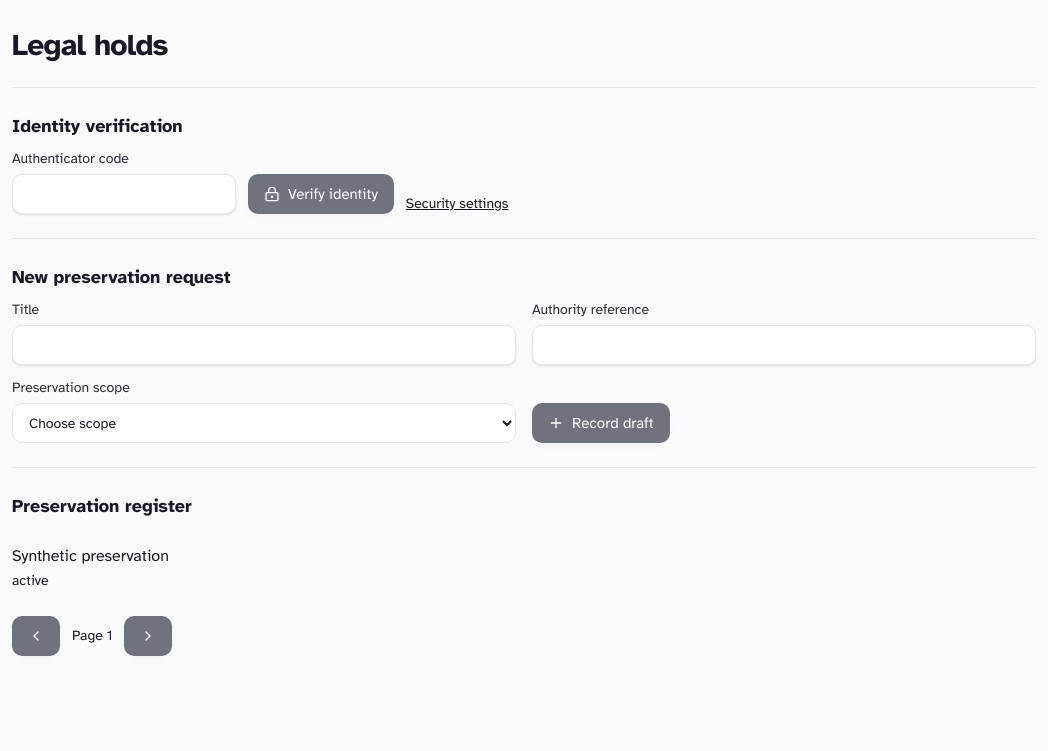
Test case: Legal hold commands › keeps whole-workspace release unavailable and displays the preserved authority
This screenshot has width=1048, height=751.
What coordinates should you click on to do the following:
click the button with aria-label "Synthetic preservation: active"
I would click on:
 (90, 556)
Its box is [12,544,1036,592].
(page scrolled)
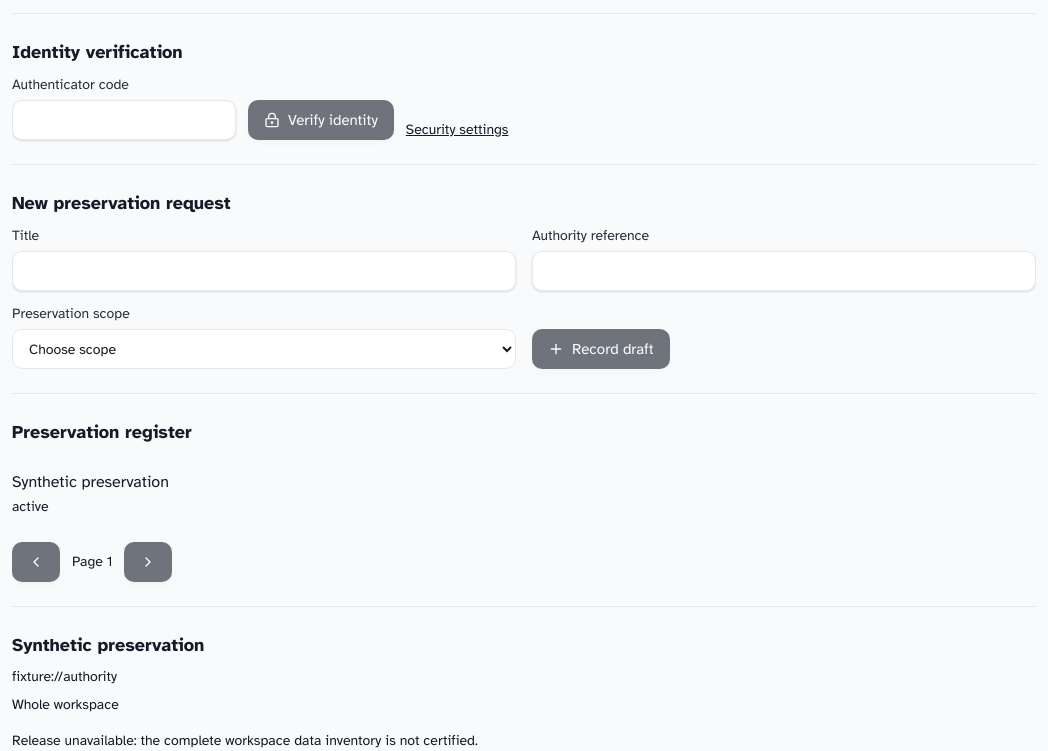
Check: the text "Release unavailable: the complete workspace data inventory is not certified." is shown, box [12,732,478,749]
Check: the text "fixture://authority" is shown, box [12,668,117,685]
